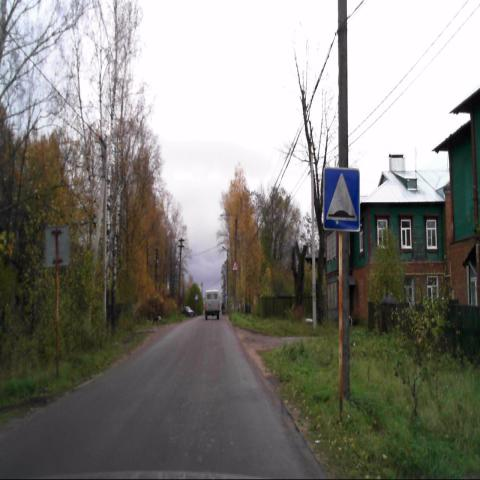5_20: (322, 167, 360, 232)
